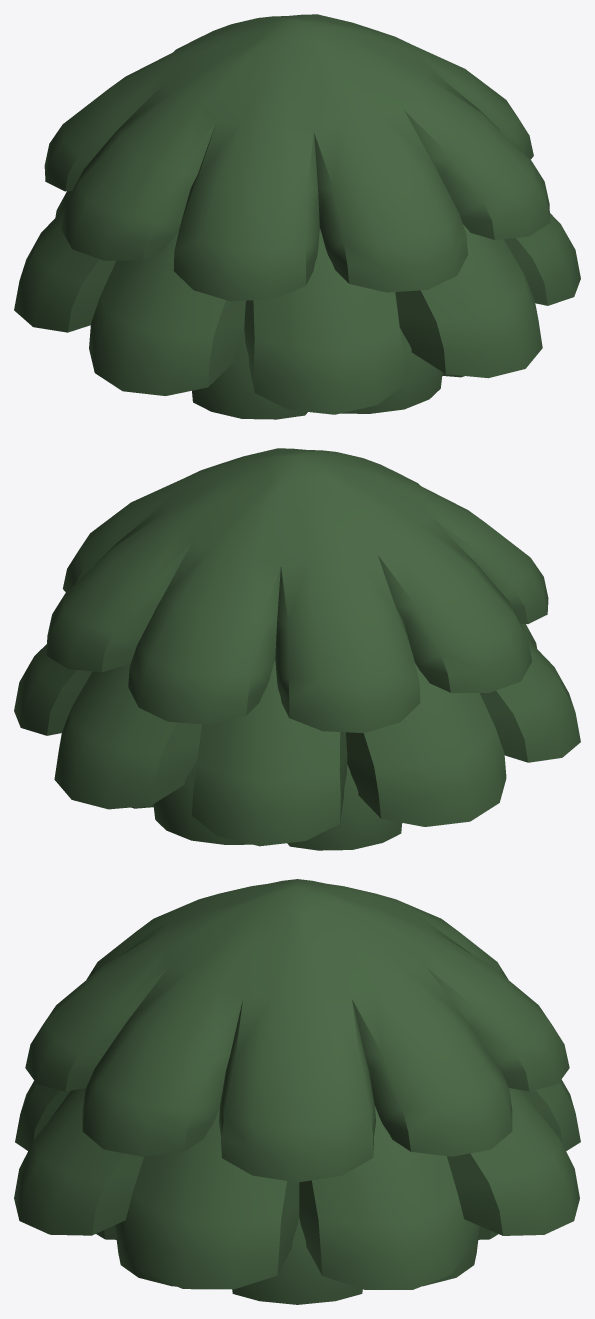
File: quaternius-platformer-game-bush.glb
The picture shows the model from 3 angles, top to bottom: view 1: azimuth 30°, elevation 25°; view 2: azimuth 150°, elevation 25°; view 3: azimuth 270°, elevation 25°; orthographic projection. The views are drawn at different scales.
Visible parts, largest first — view 1: Bush; view 2: Bush; view 3: Bush.
Part boxes in pixels (bbox=[...]): Bush: bbox=[14, 14, 580, 419]; Bush: bbox=[14, 448, 580, 850]; Bush: bbox=[14, 879, 580, 1304].
Size of the model in its own units: 3.52 by 2.23 by 3.53.
